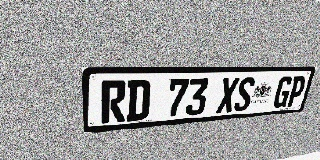3: (185, 78, 209, 116)
7: (165, 79, 189, 118)
D: (126, 80, 151, 121)
G: (272, 76, 294, 108)
P: (285, 76, 307, 107)
R: (101, 80, 127, 124)
S: (233, 77, 256, 112)
X: (216, 77, 240, 113)
